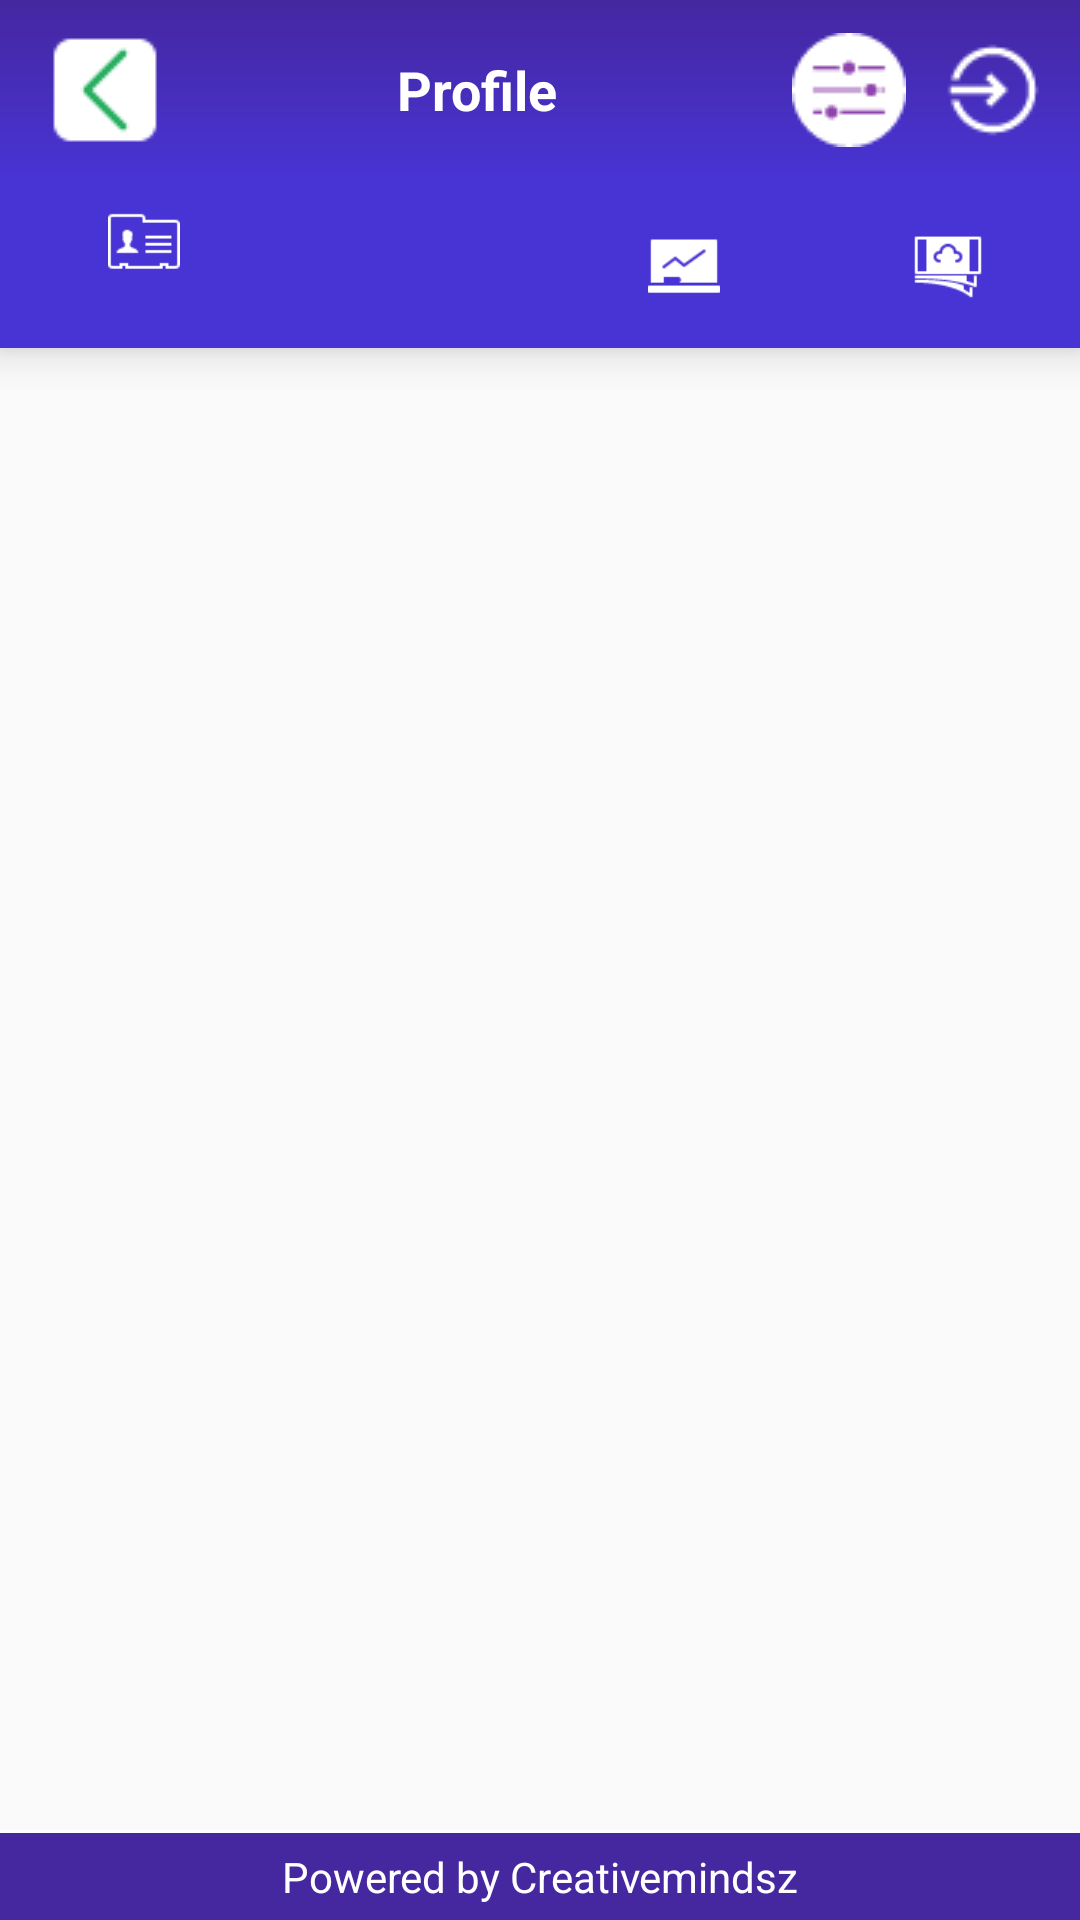

Icon bounding boxes for this 1080px×1920px phone screenshot, format (x1, y1, x2, y2):
back: (48, 38, 162, 147)
exit: (936, 45, 1050, 147)
options: (792, 33, 906, 147)
